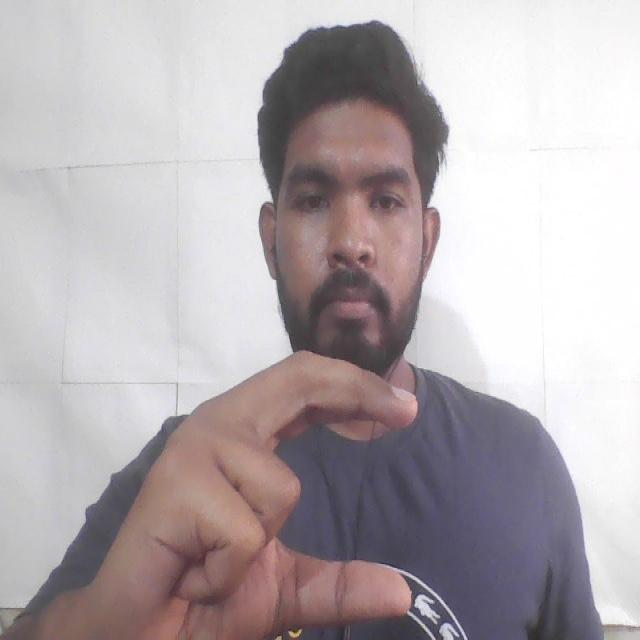No: (110, 334, 487, 640)
